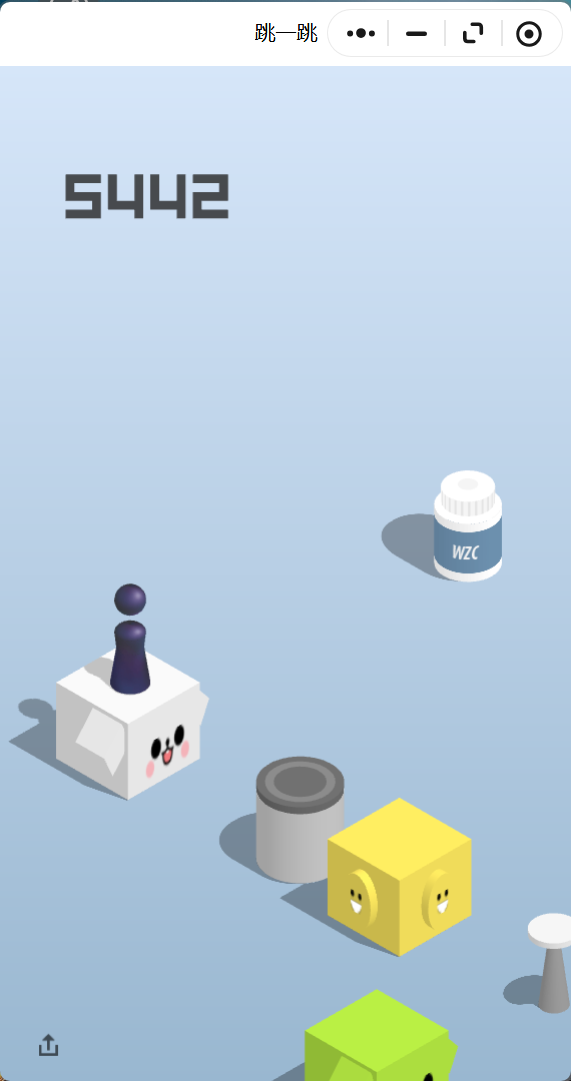piece: (114, 583, 146, 689)
target: (442, 469, 494, 501)
